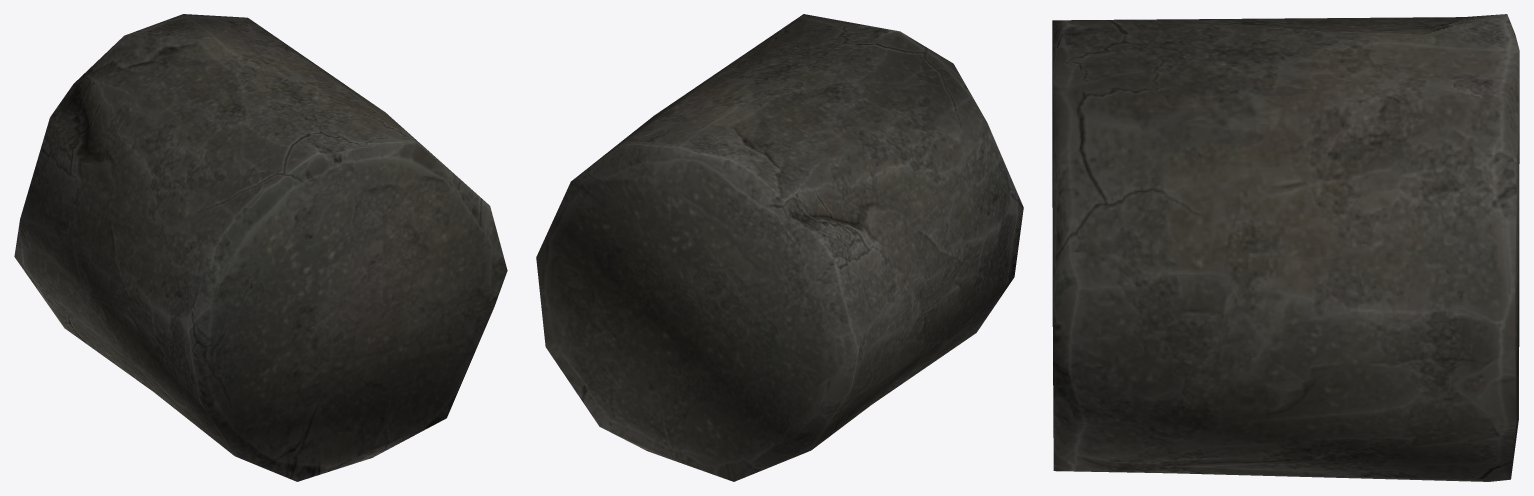
File: TI_Pillar_Part_02.fbx
3 renders of one model, left to right at view 1: azimuth 30°, elevation 25°; view 2: azimuth 150°, elevation 25°; view 3: azimuth 270°, elevation 25°, orthographic. The views are drawn at different scales.
Parts seen in each view (by area): view 1: TI_Pillar_Part_02; view 2: TI_Pillar_Part_02; view 3: TI_Pillar_Part_02.
Part boxes in pixels (x1,y1,x2,y2): TI_Pillar_Part_02: (14,14,507,481); TI_Pillar_Part_02: (536,14,1023,481); TI_Pillar_Part_02: (1052,14,1519,481).
Bounding box in the file's own units: 1.06 × 1.06 × 1.05.
